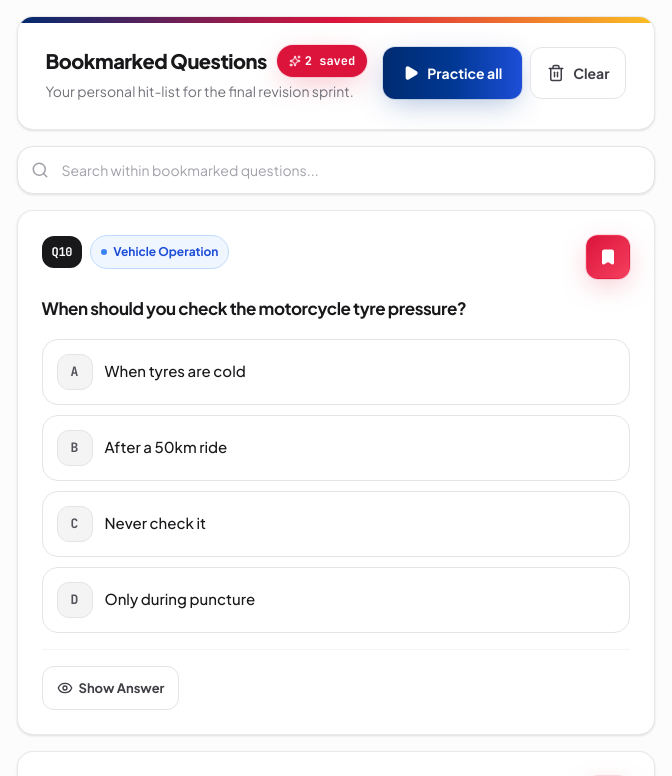
Test: BookmarksView › shows empty filter state when search has no matches, and resets on clear
Type "nonexistent-query-xyz" into the search field with placeholder "Search within bookmarked questions..." at (336, 170), box [16, 146, 656, 194]
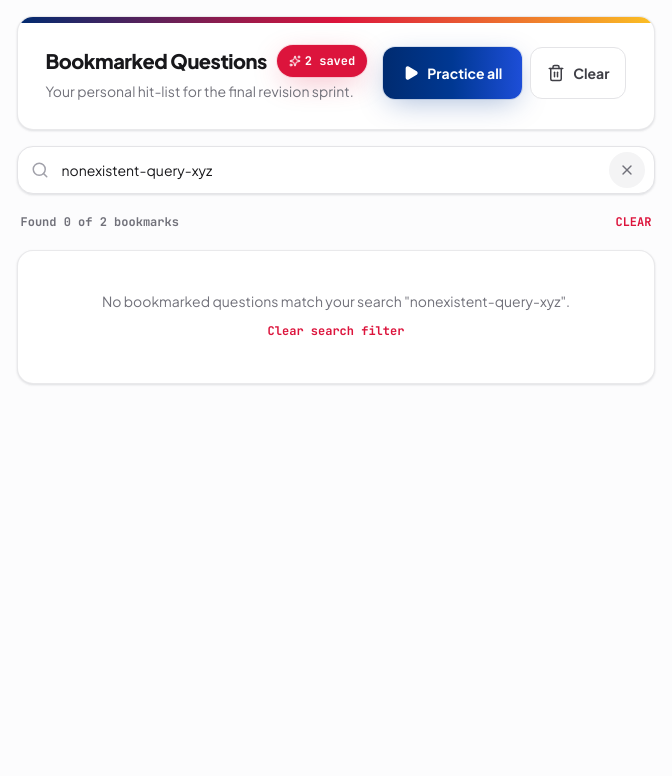
Expected: the text "No bookmarked questions match your search" is shown, [102, 292, 410, 310]
Click the button "Clear search filter" at (336, 331), box [268, 319, 404, 343]
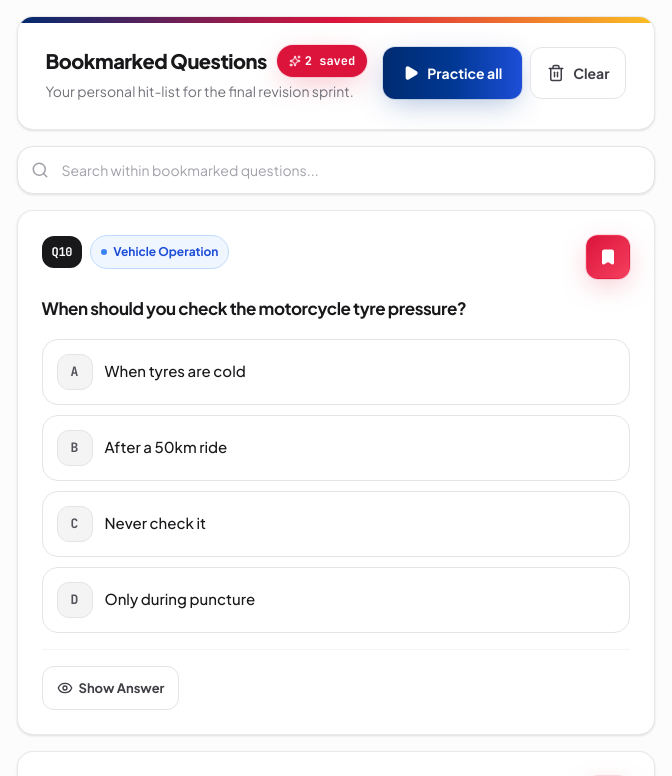
Expected: the heading "When should you check the motorcycle tyre pressure?" is shown, [42, 297, 466, 319]
